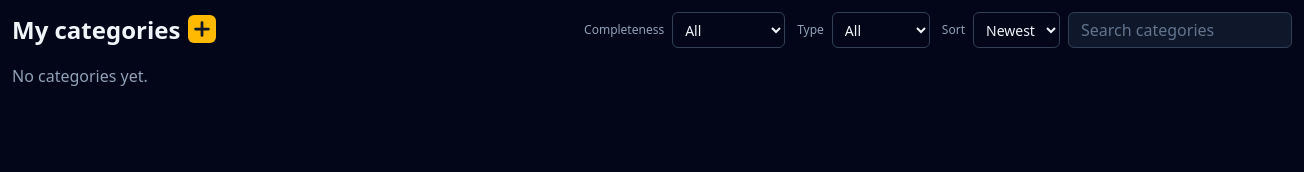
it: CategoriesPage › tells a filtered empty list apart from having no categories
This screenshot has width=1304, height=172.
Check: the text "No categories yet." is shown, box [12,65,148,87]
Select "Final" in the dropdown labelled "Type": [881, 30] box [832,12,930,48]
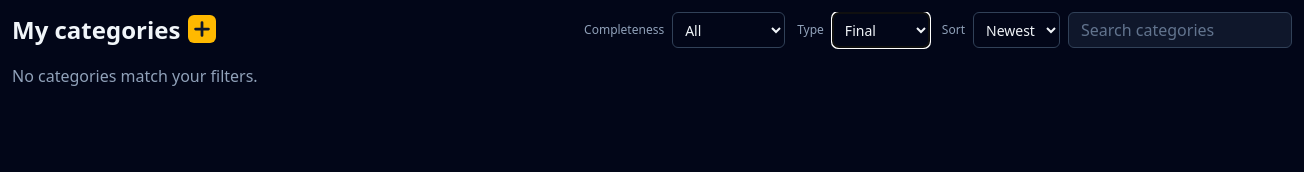
Check: the text "No categories match your filters." is shown, box [12,65,258,87]
